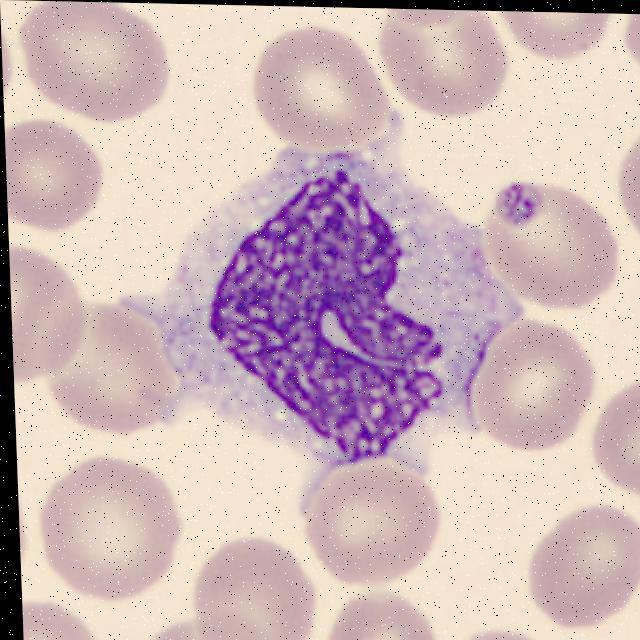monocyte: (140, 128, 521, 491)
platelets: (488, 180, 541, 233)
rbc: (41, 303, 172, 441), (42, 460, 180, 591), (303, 462, 442, 591), (487, 186, 615, 313), (256, 25, 392, 144), (28, 5, 171, 116), (469, 326, 589, 452), (184, 536, 314, 640), (525, 508, 640, 625), (387, 9, 503, 117), (10, 250, 94, 384), (5, 126, 102, 235), (588, 371, 640, 494), (503, 11, 612, 61), (327, 593, 438, 640), (24, 604, 92, 640), (618, 127, 640, 231), (1, 24, 17, 96), (619, 14, 640, 66), (460, 632, 544, 640)
